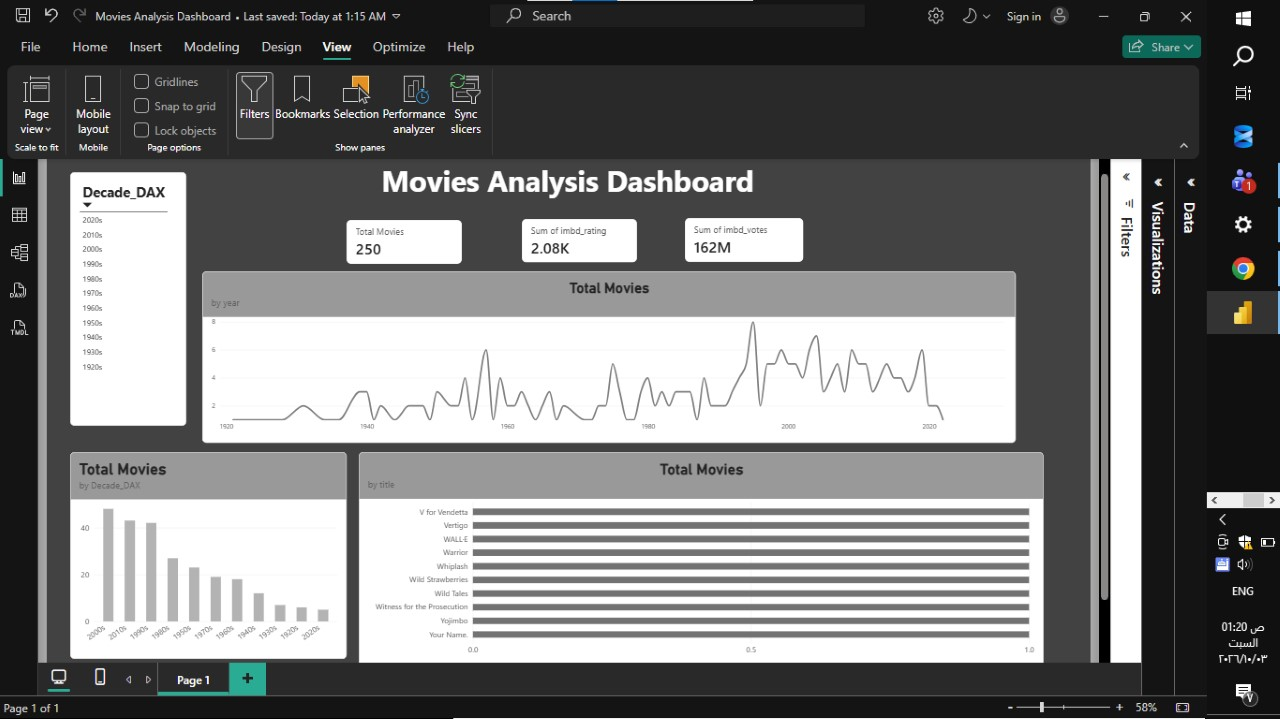

This screenshot's page, from the dashboard's own definition file:
{"tool":"powerbi","page":{"name":"Page 1","canvas":[1920,1080],"ordinal":0},"visuals":[{"type":"tableEx","fields":{"Values":["movies.Decade_DAX"]},"box":[43.1,41.4,213.8,467.2],"z":0},{"type":"clusteredBarChart","fields":{"Category":["movies.title"],"Y":["movies.Total Movies"]},"box":[574.1,556.9,1260.3,396.6],"z":1000},{"type":"cardVisual","fields":{"Data":["movies.Total Movies"]},"box":[551.7,129.3,212.1,81],"z":1001},{"type":"textbox","box":[434.5,19,1048.3,87.9],"z":1003},{"type":"cardVisual","fields":{"Data":["Sum(movies.imbd_rating)"]},"box":[874.1,127.6,212.7,81],"z":1004},{"type":"cardVisual","fields":{"Data":["Sum(movies.imbd_votes)"]},"box":[1174.1,125.9,219,81],"z":1005},{"type":"columnChart","fields":{"Category":["movies.Decade_DAX"],"Y":["movies.Total Movies"]},"box":[43.1,556.9,508.6,381],"z":1007},{"type":"lineChart","fields":{"Category":["movies.year"],"Y":["movies.Total Movies"]},"box":[286.2,224.1,1496.6,315.5],"z":1008}]}

Visuals, with their boxes on the page's 1920x1080 design canvas (x1, y1, x2, y2). These are canvas units, not pixel positions in the 1280x719 screenshot, which may show the page scaled, cropped or inside an application window:
tableEx - movies.Decade_DAX: BBox(43, 41, 257, 509)
clusteredBarChart - movies.title x movies.Total Movies: BBox(574, 557, 1834, 954)
cardVisual - movies.Total Movies: BBox(552, 129, 764, 210)
textbox: BBox(434, 19, 1483, 107)
cardVisual - Sum(movies.imbd_rating): BBox(874, 128, 1087, 209)
cardVisual - Sum(movies.imbd_votes): BBox(1174, 126, 1393, 207)
columnChart - movies.Decade_DAX x movies.Total Movies: BBox(43, 557, 552, 938)
lineChart - movies.year x movies.Total Movies: BBox(286, 224, 1783, 540)
